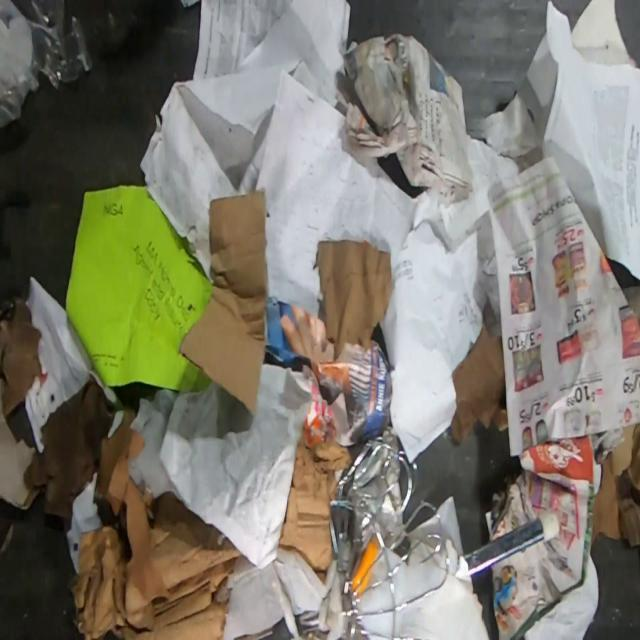cardboard: (68, 409, 242, 639), (176, 190, 270, 420), (278, 439, 354, 584), (590, 418, 640, 548)
metal: (327, 432, 450, 639), (462, 507, 562, 575)
rigid_plastic: (0, 0, 94, 128)
